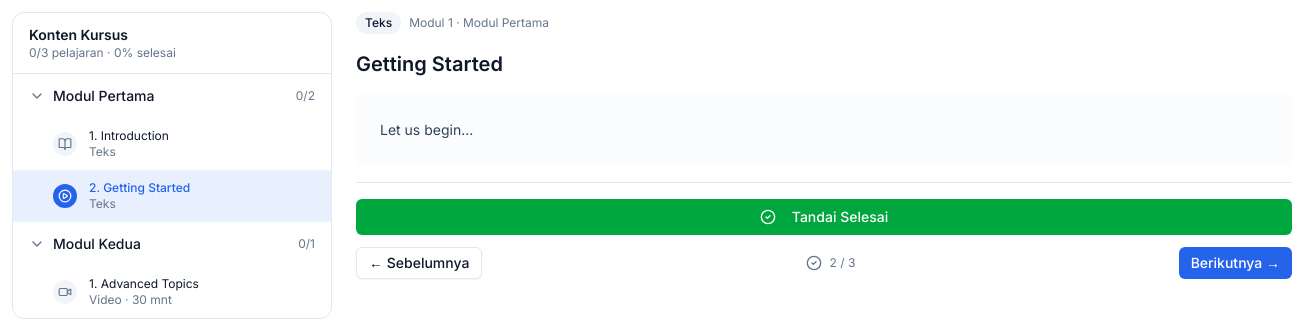
Test case: CoursePlayer › navigation › navigates to previous lesson
Click the button "← Sebelumnya": (419, 263) [356, 247, 482, 279]
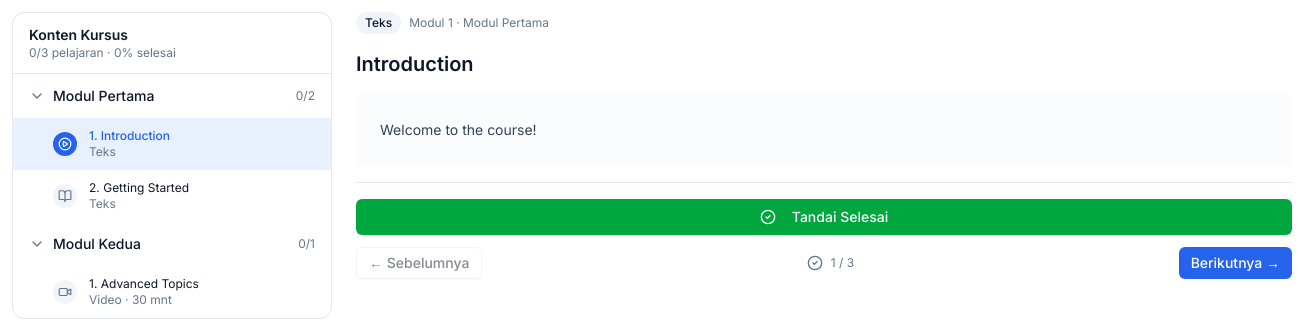
Now the text "Welcome to the course!" is shown, box [380, 121, 537, 138]
